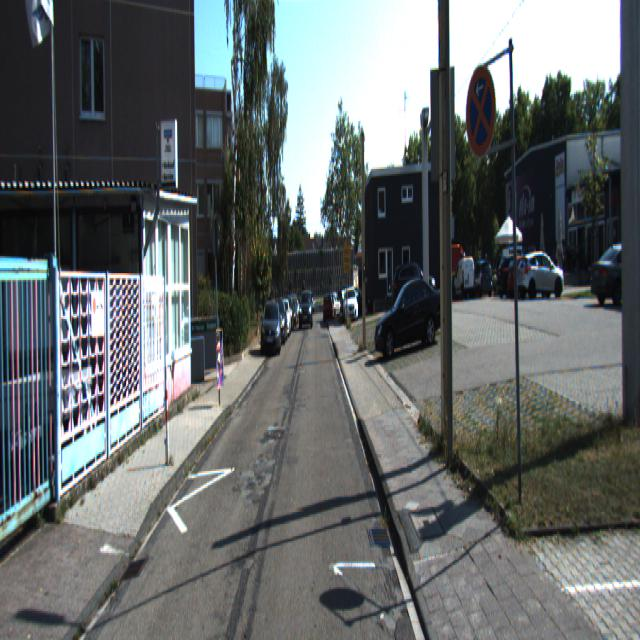Car: (370, 262, 448, 352), (587, 236, 639, 308), (392, 258, 437, 315), (516, 250, 566, 301), (504, 254, 553, 302), (260, 299, 282, 358), (470, 258, 495, 300), (454, 257, 475, 301), (632, 230, 640, 310), (342, 286, 358, 323), (298, 291, 313, 330)
